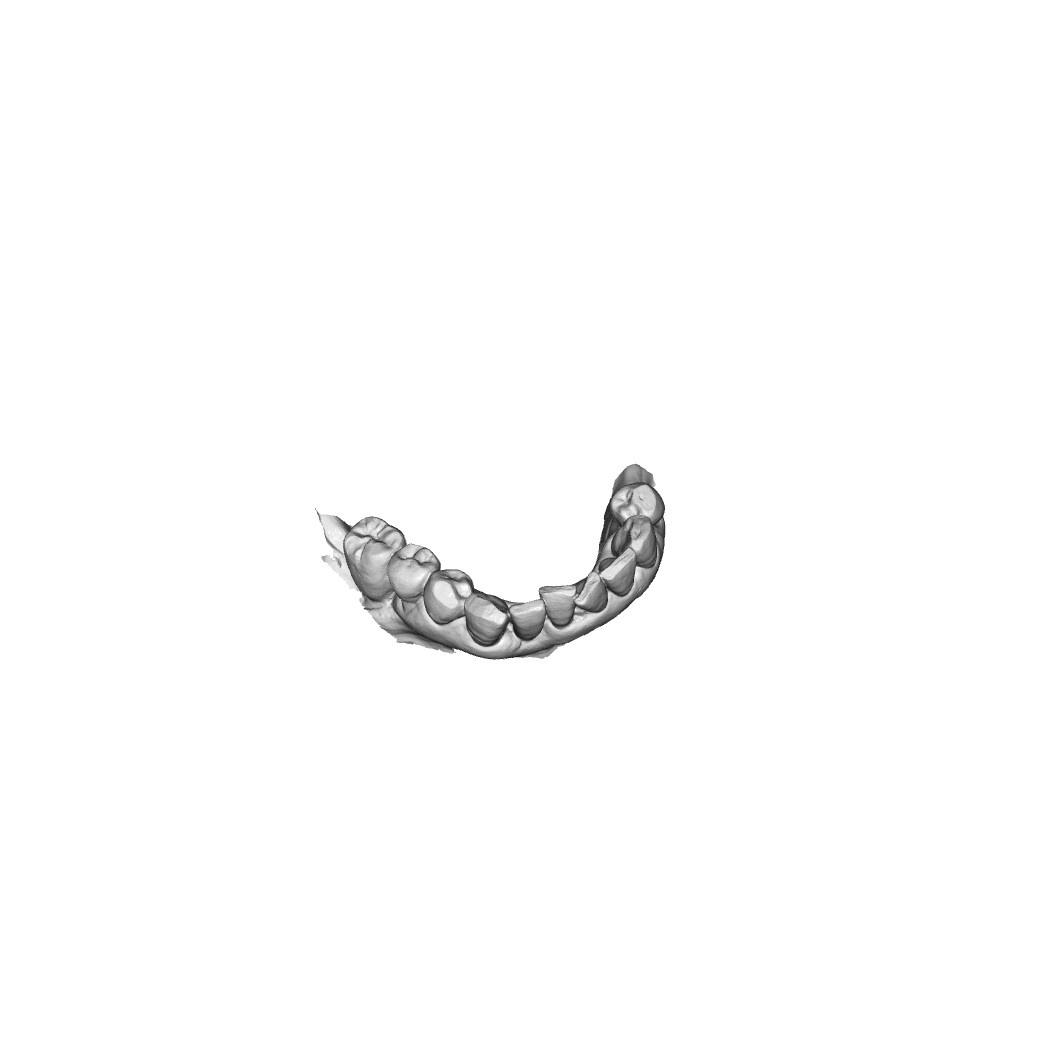canine: (622, 520, 669, 578), (463, 592, 505, 640)
incisor: (575, 573, 611, 618), (606, 554, 643, 597), (542, 586, 576, 622), (515, 606, 547, 637)
molar: (342, 515, 402, 586)
premolar: (604, 482, 661, 529), (422, 570, 470, 619), (389, 541, 432, 592)
